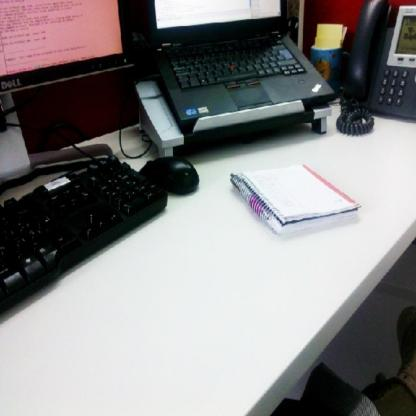board: (137, 0, 341, 140)
